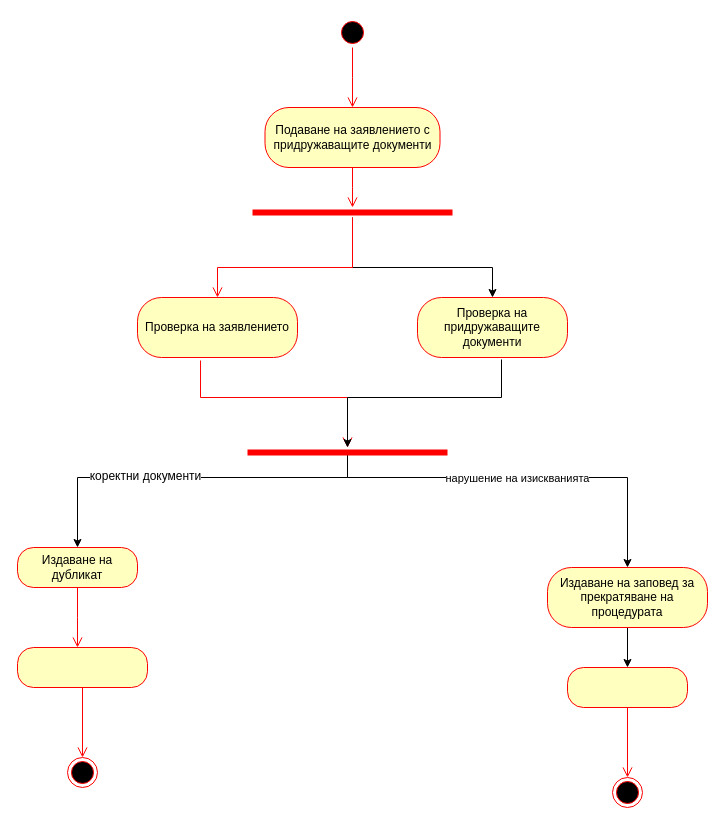
The diagram is 725 pixels wide and 825 high, and some of its shapes have lost their labels. The centre of each missing label's shape, as x and y in pixels:
"Предоставане на дубликата в скор от 3 дни" belongs at pixel 82 667.
"Уведомяване на подятеля" belongs at pixel 627 687.
